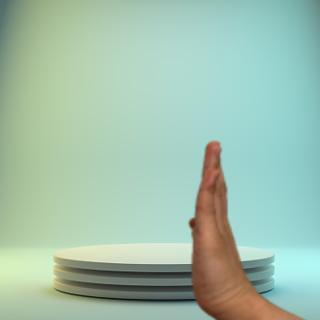RIGHT: (177, 133, 255, 315)
